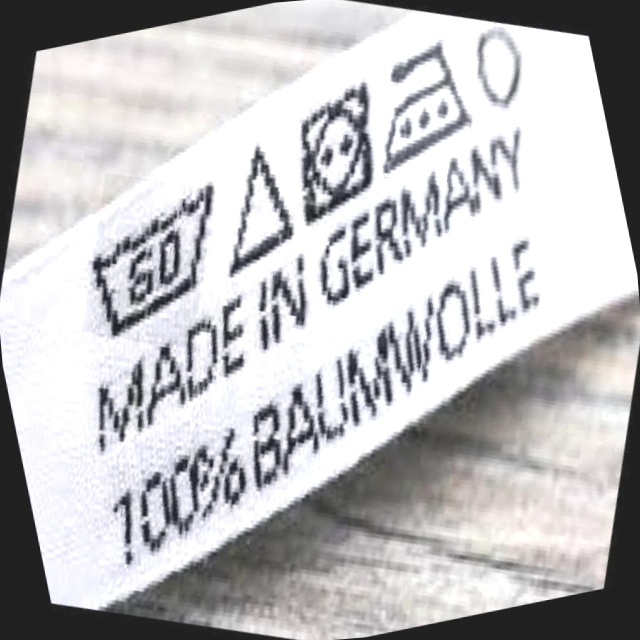60C: (62, 176, 242, 338)
bleach: (209, 135, 306, 277)
iron_high: (361, 30, 484, 176)
tumble_dry_medium: (279, 76, 392, 222)
